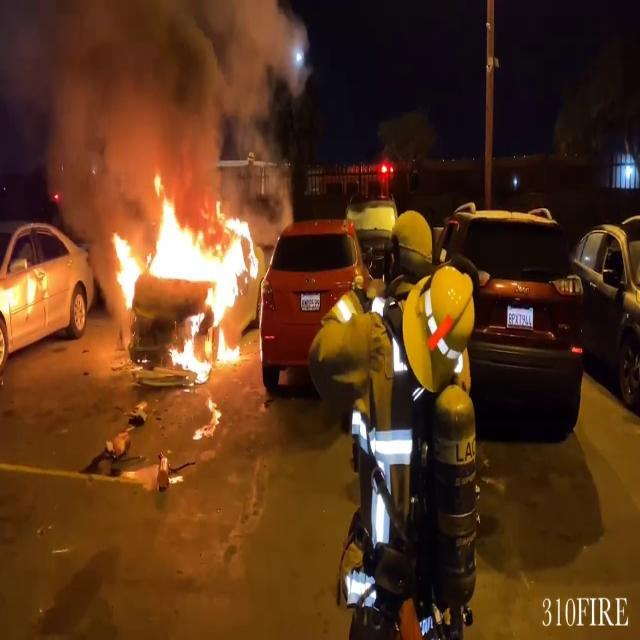Fire: (107, 168, 259, 368), (109, 230, 142, 308)
Smoke: (15, 1, 309, 194)
